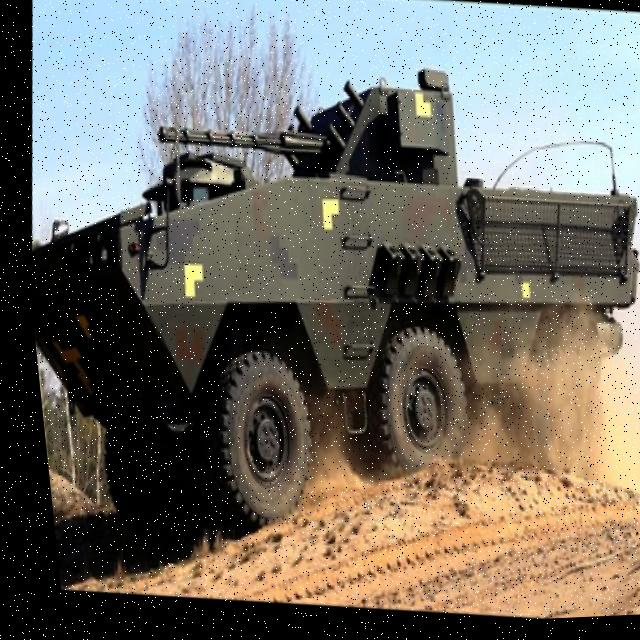MIL_APC: (4, 25, 640, 579)
